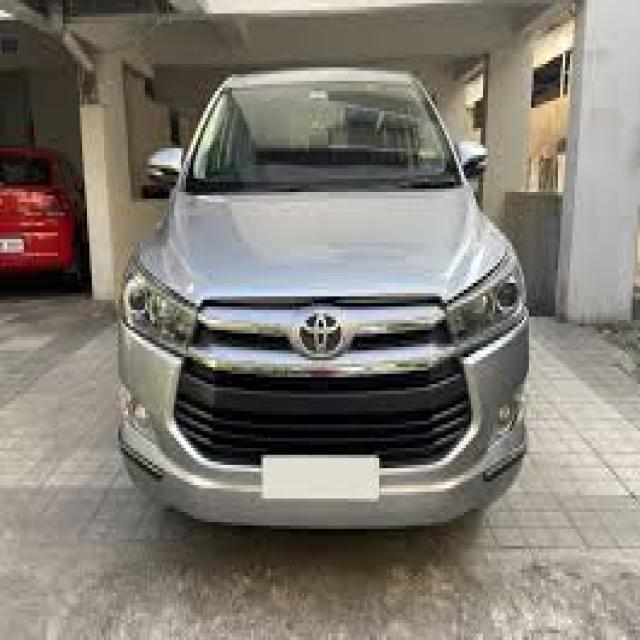light_vehicle: (117, 67, 530, 528)
